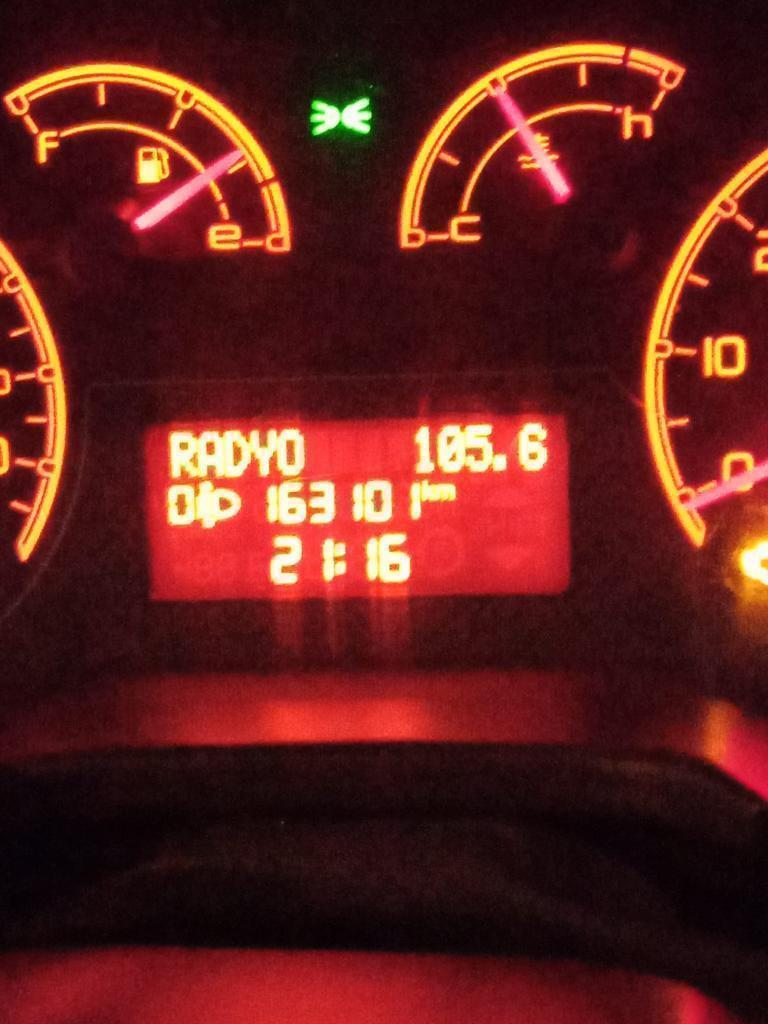,: (492, 450, 508, 474)
0: (436, 421, 464, 474), (165, 482, 196, 527), (364, 478, 394, 523)
1: (410, 422, 435, 475), (360, 531, 377, 584), (318, 534, 333, 584), (347, 479, 363, 523), (261, 481, 277, 524), (406, 477, 420, 521)
2: (268, 531, 304, 587)
3: (308, 479, 336, 525)
5: (464, 420, 492, 474)
6: (378, 531, 412, 583), (514, 421, 549, 471), (278, 479, 307, 525)
X: (166, 428, 198, 479), (276, 427, 306, 477), (223, 428, 250, 479), (250, 427, 277, 477), (198, 429, 222, 479), (434, 482, 457, 503), (334, 538, 345, 578), (420, 477, 435, 503)
odometer: (130, 405, 581, 608)
